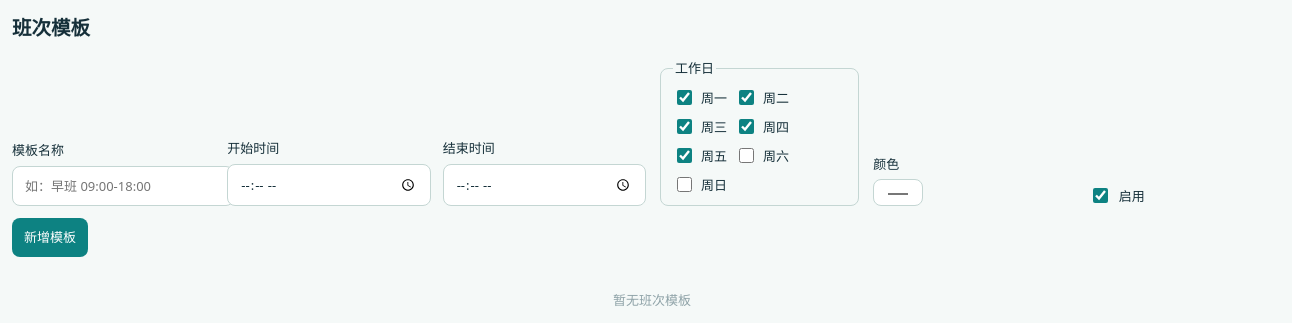
TemplateSection › creates a template with workDaysJson payload
Type "晚班" into the field labelled "模板名称".
click(123, 186); type("晚班")  # box [12,166,234,206]
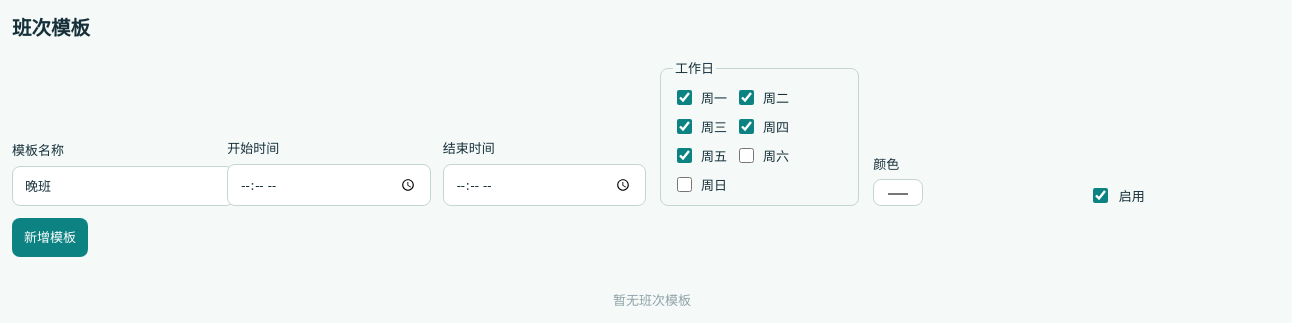
Type "13:00" into the time field labelled "开始时间".
click(329, 185); type("13:00")  # box [227,164,431,206]
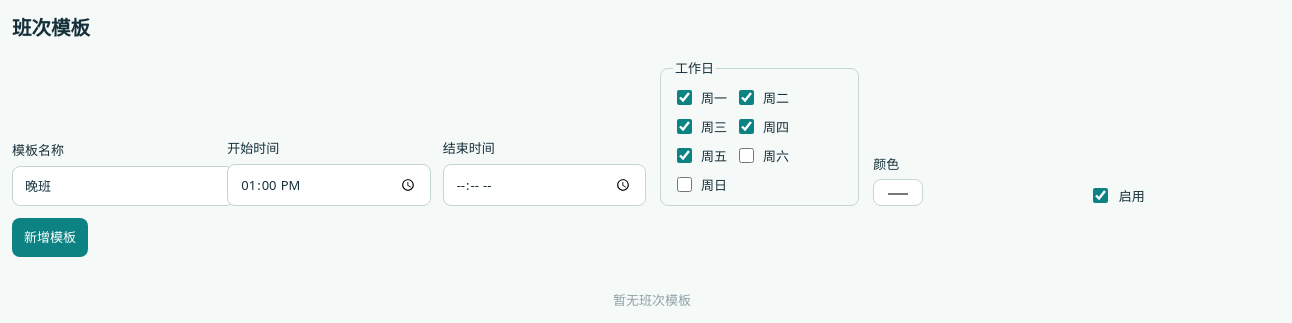
Type "22:00" into the time field labelled "结束时间".
click(544, 185); type("22:00")  # box [443,164,646,206]
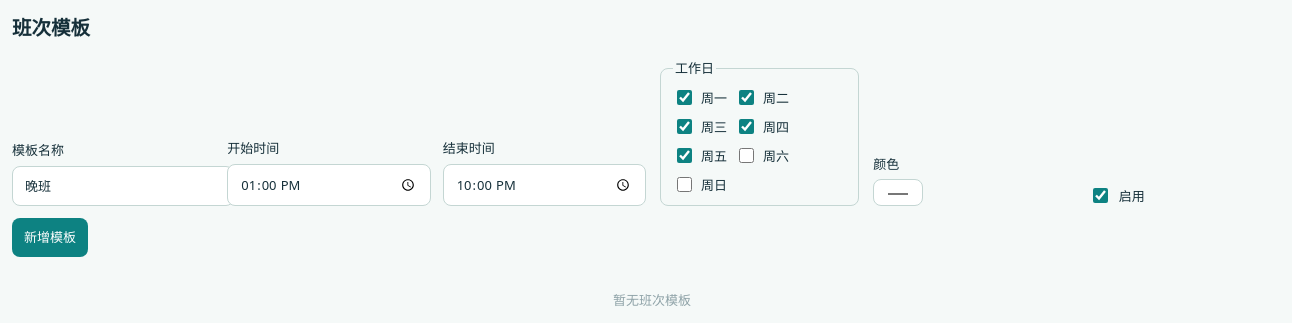
Click the checkbox named "工作日 周一".
click(684, 98)  # box [677,90,692,106]
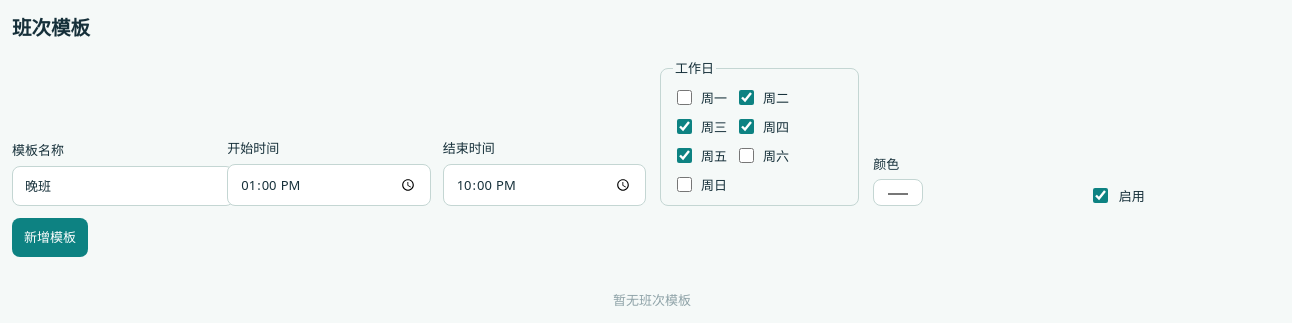
Click the button "新增模板".
click(50, 238)  # box [12,218,88,257]
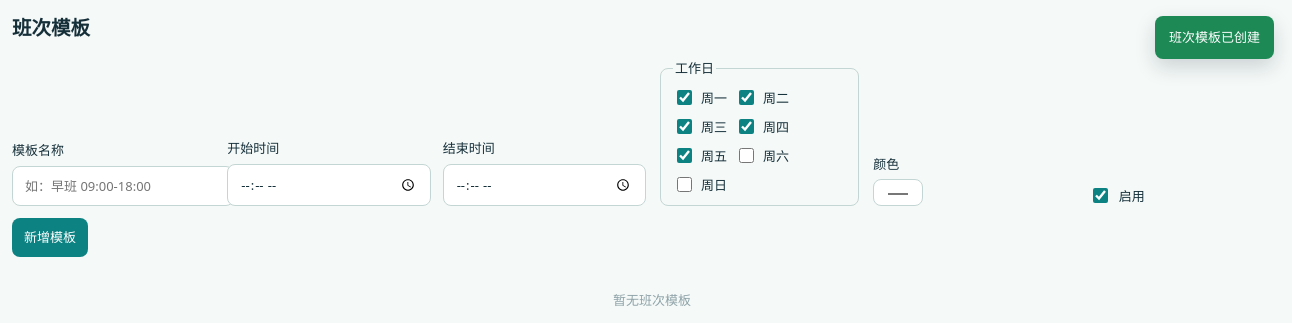
Check: the text "班次模板已创建" is shown, box [1155,16,1274,59]
